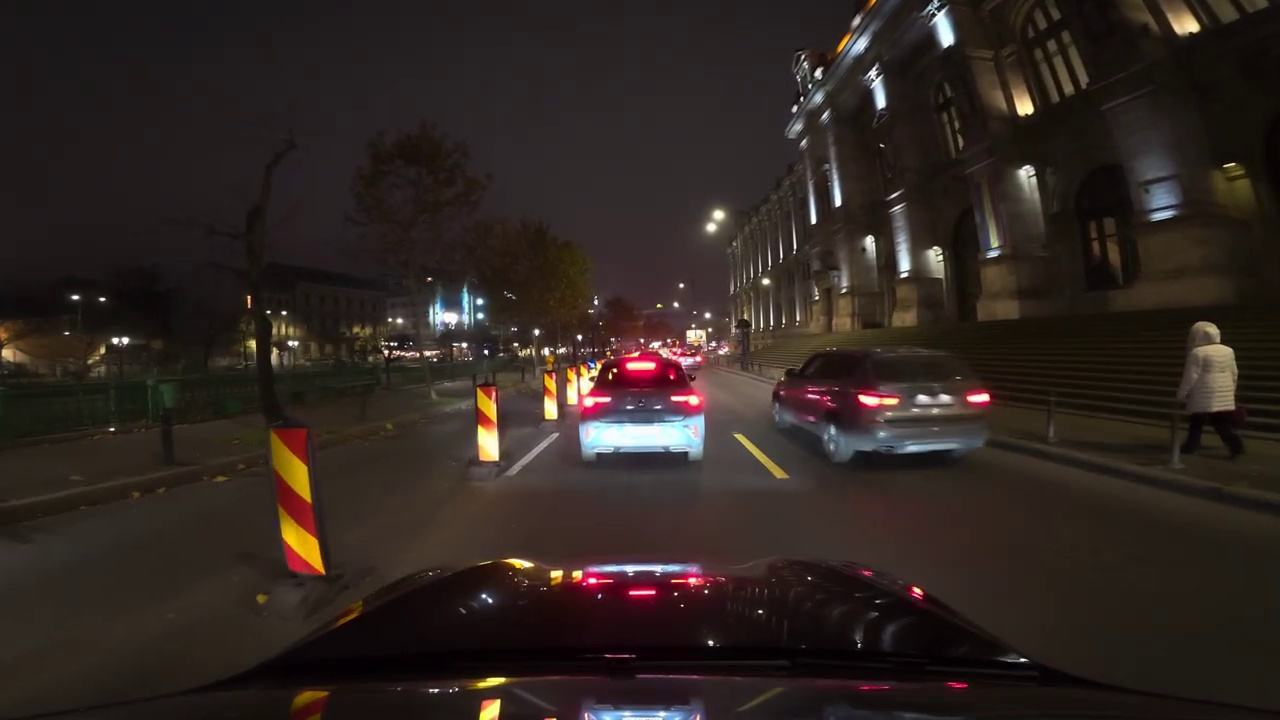acesa: (702, 206, 729, 236)
